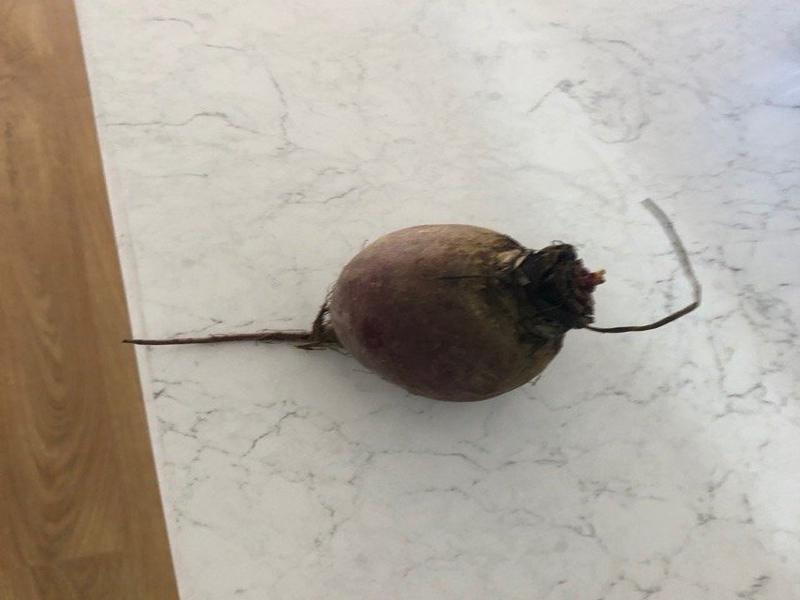Beet: (120, 200, 698, 401)
